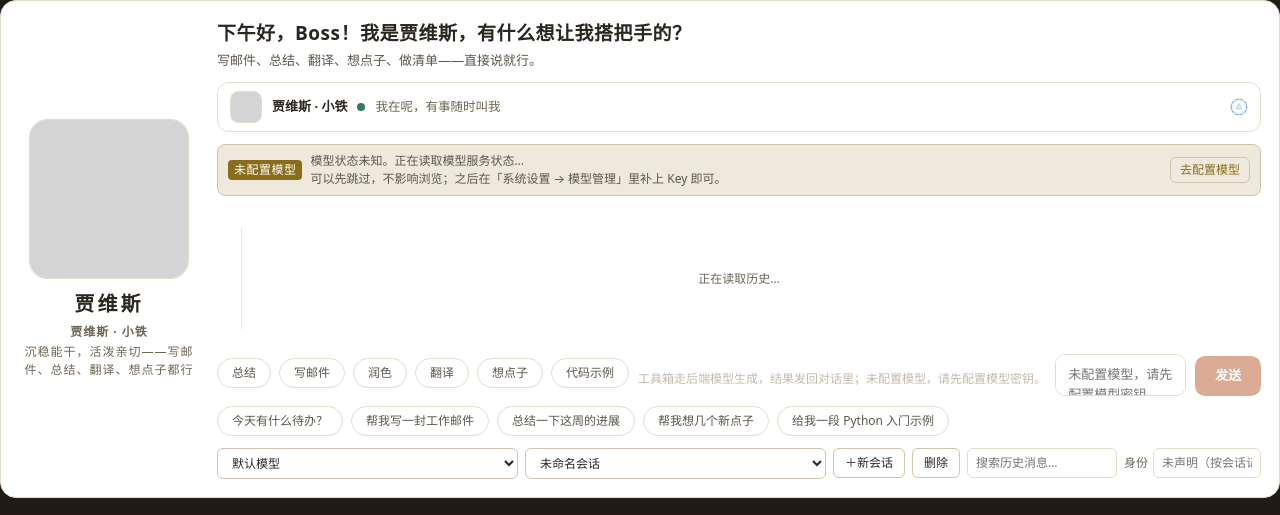
ChatPanel 结束帧 › done{status:error, reason:quota_exhausted} 渲染额度卡片，不把失败文案当普通回复
The image size is (1280, 515).
In the text box with placeholder "未配置模型，请先配置模型密钥": point(1121, 375) [1055,354,1186,396], type "你好"
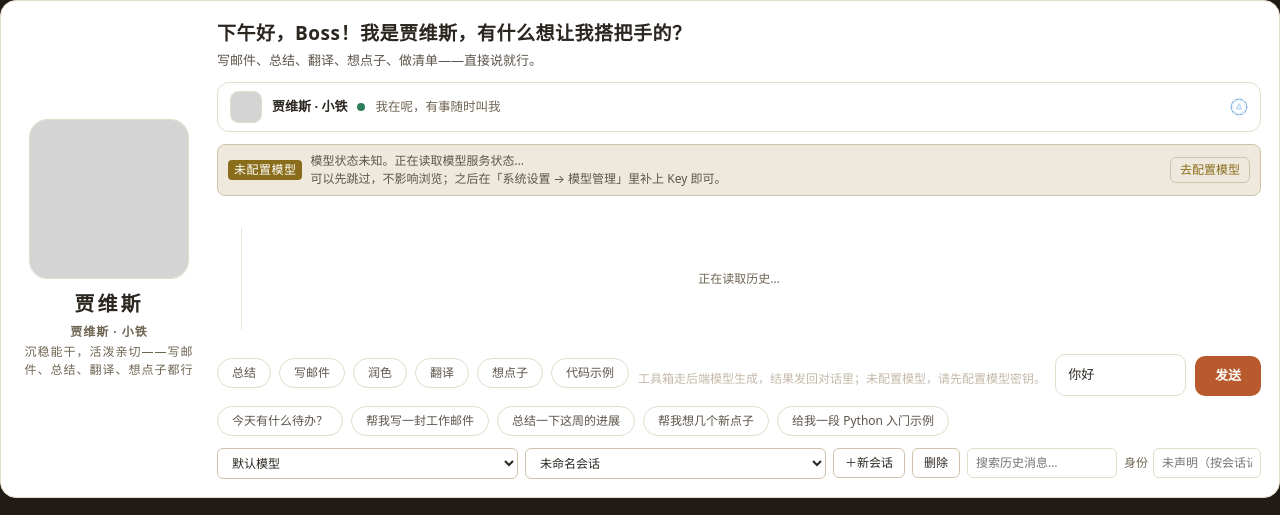
Click the button "发送": point(1228, 376) [1195,356,1261,396]
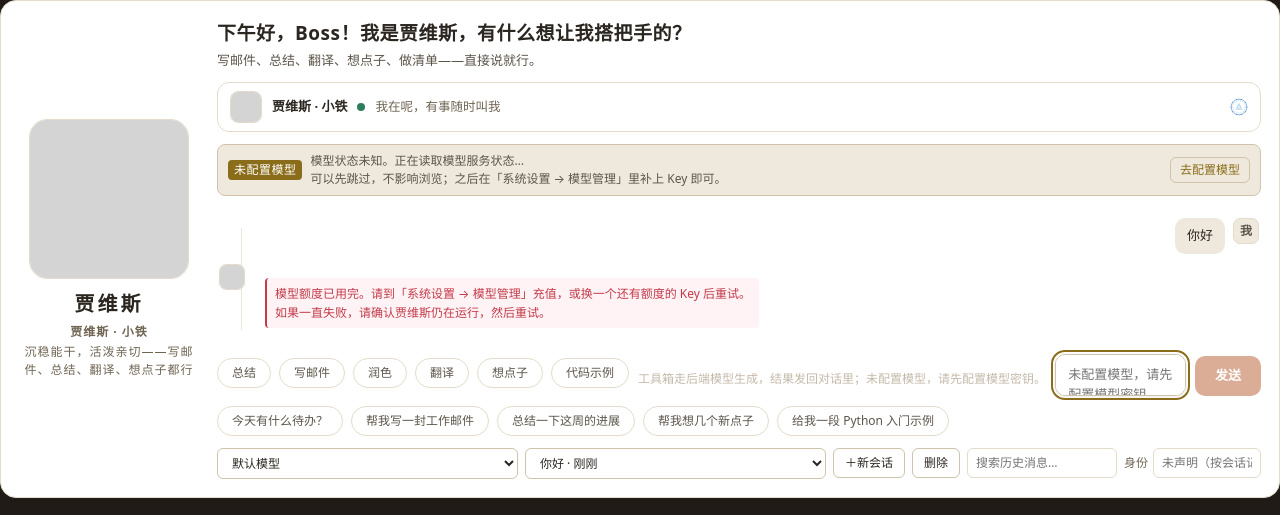
Now the text "模型额度已用完。请到「系统设置 → 模型管理」充值，或换一个还有额度的 Key 后重试。" is shown, box [275,284,751,303]
